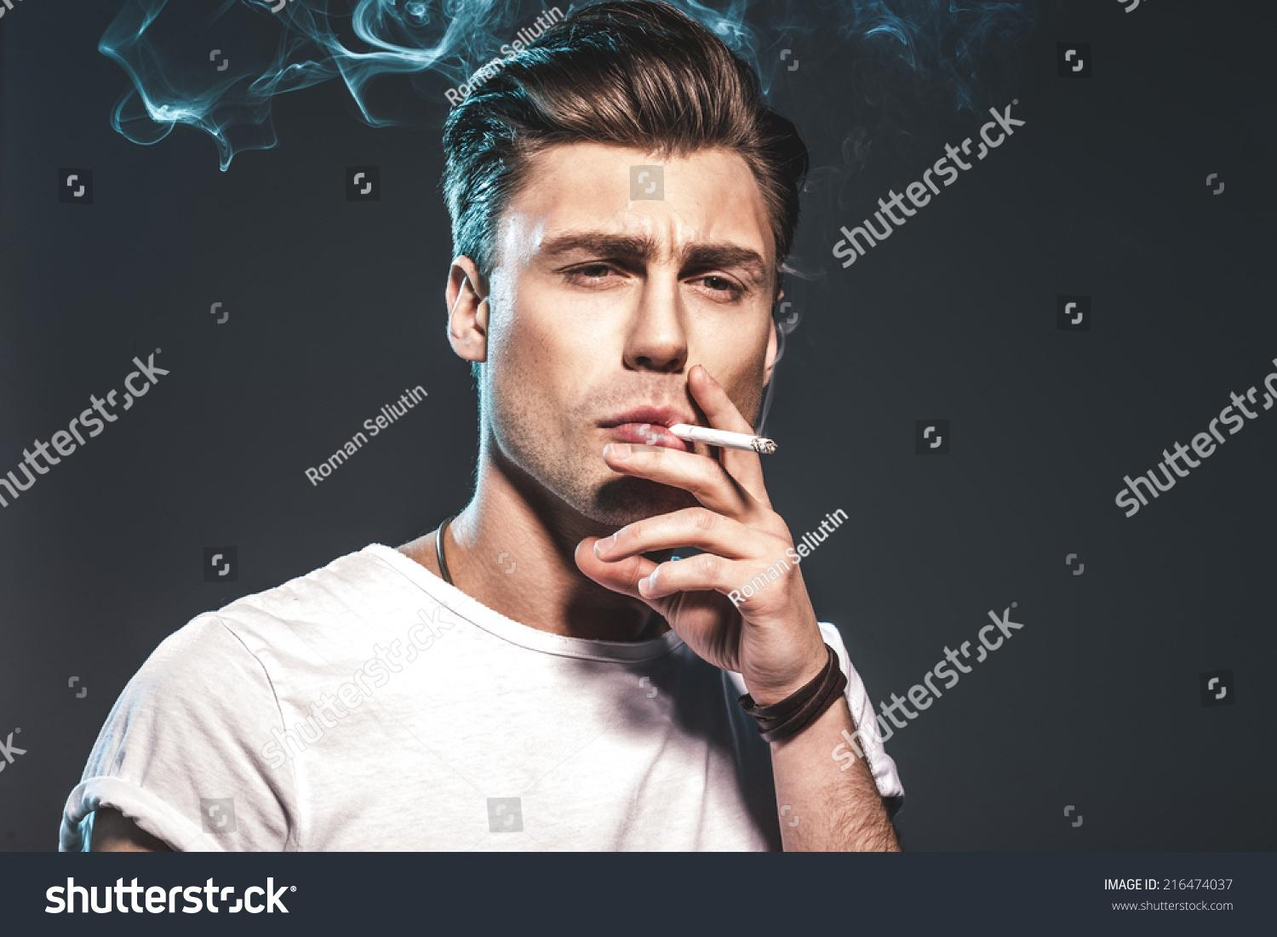cigarette: (669, 424, 776, 454)
